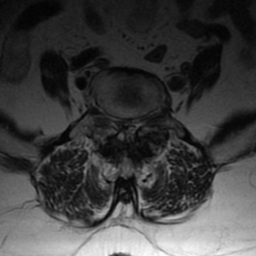CCS_normal: (123, 112, 131, 147)
LFS_normal: (140, 106, 149, 129)
LLS_normal: (131, 112, 140, 141)
RFS_normal: (107, 106, 116, 134)
RLS_normal: (116, 112, 124, 143)
